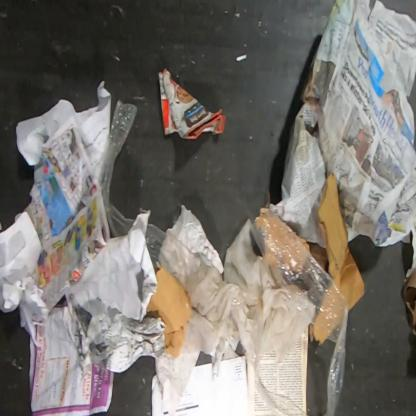cardboard: (317, 172, 365, 312), (158, 67, 226, 139), (146, 267, 195, 358), (403, 266, 415, 338)
soft_plastic: (253, 204, 349, 416), (100, 98, 138, 237), (252, 352, 309, 416), (145, 224, 204, 285)
